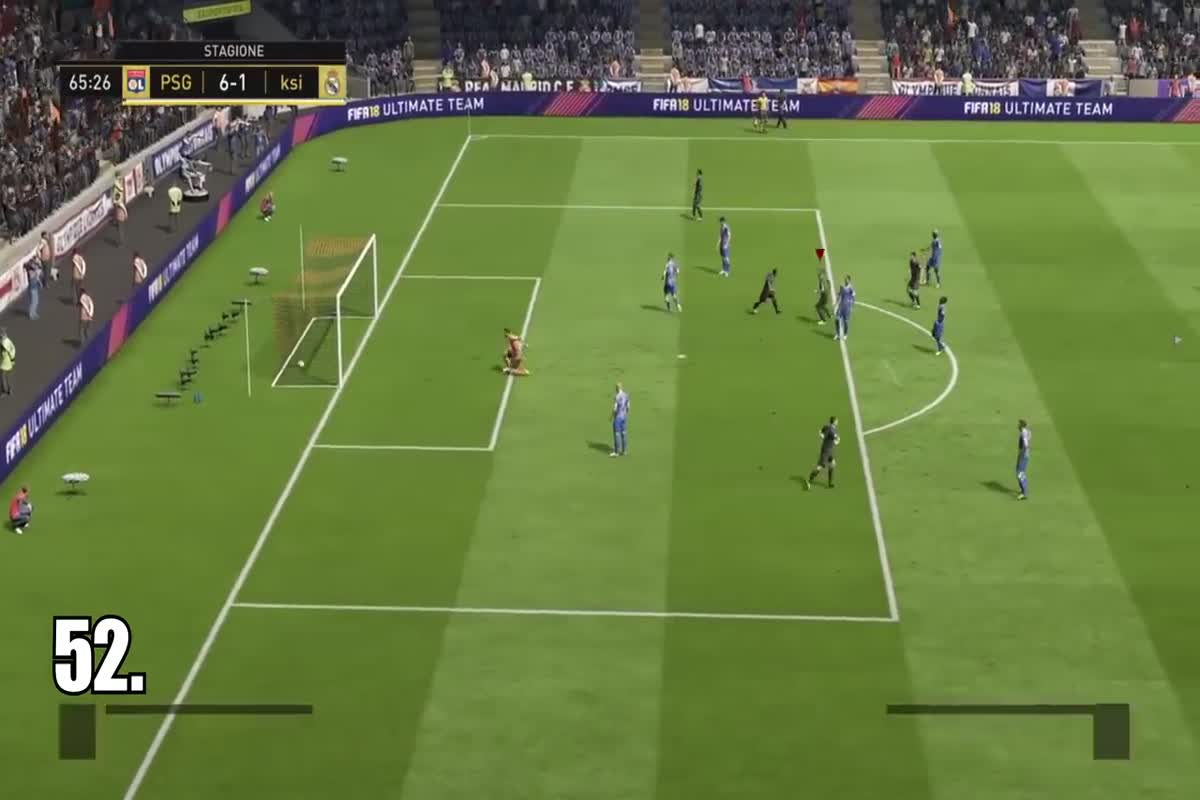ball: (294, 356, 315, 374)
